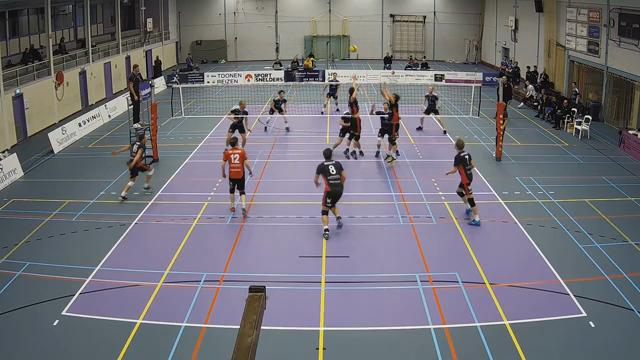Player: (446, 138, 480, 225), (314, 148, 345, 239), (112, 134, 153, 200), (221, 136, 252, 217), (416, 87, 446, 134), (225, 100, 250, 151), (348, 75, 363, 159), (370, 102, 391, 157), (264, 90, 289, 131), (332, 111, 350, 158), (321, 72, 339, 113)
Set: (375, 80, 403, 168)
ball: (348, 43, 358, 53)
